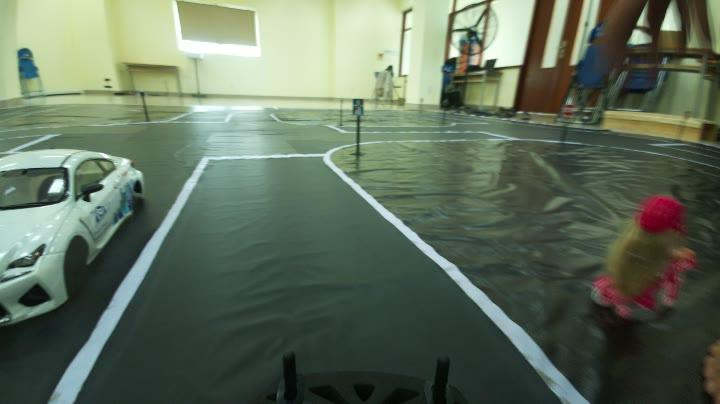car: (2, 88, 151, 327)
